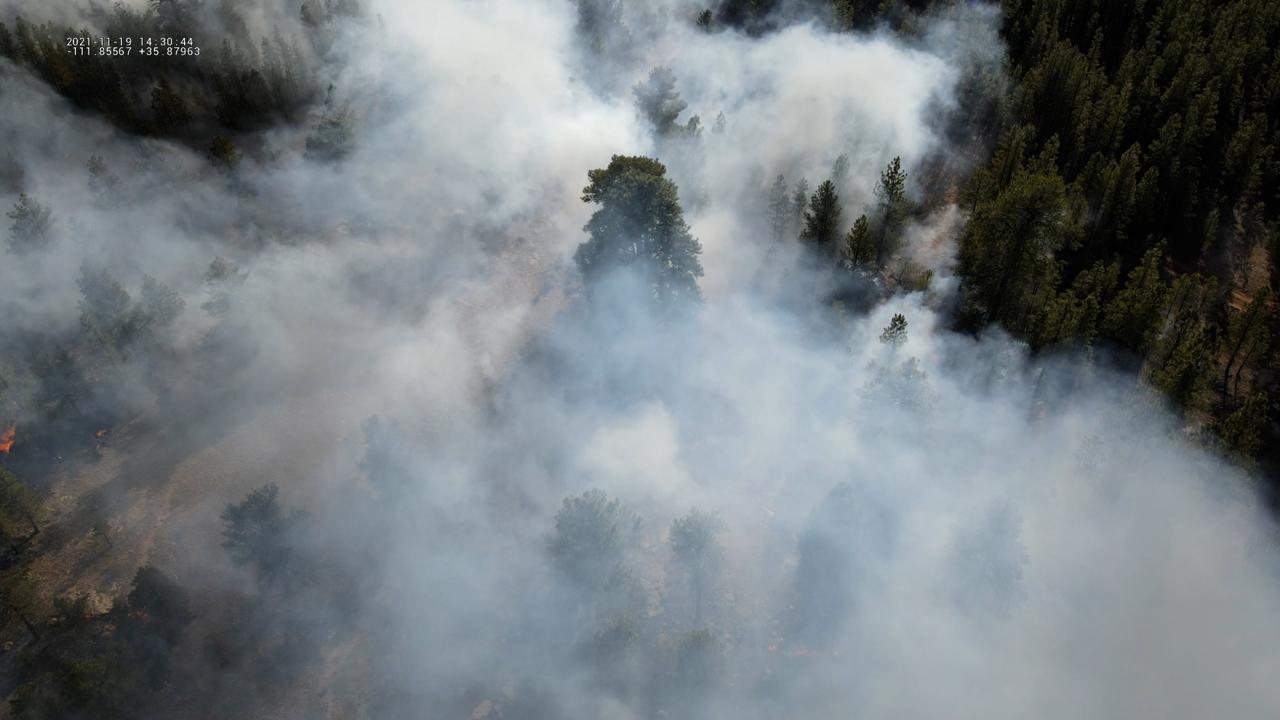fire: (0, 420, 25, 458), (134, 607, 152, 625), (95, 427, 109, 437)
smoke: (0, 0, 1280, 720)
